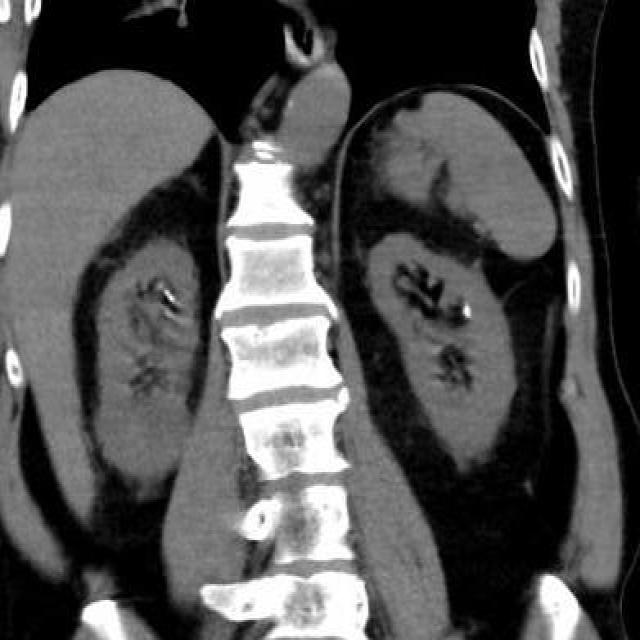Tas_Var: (463, 298, 475, 322), (167, 293, 177, 305), (164, 286, 170, 298)
